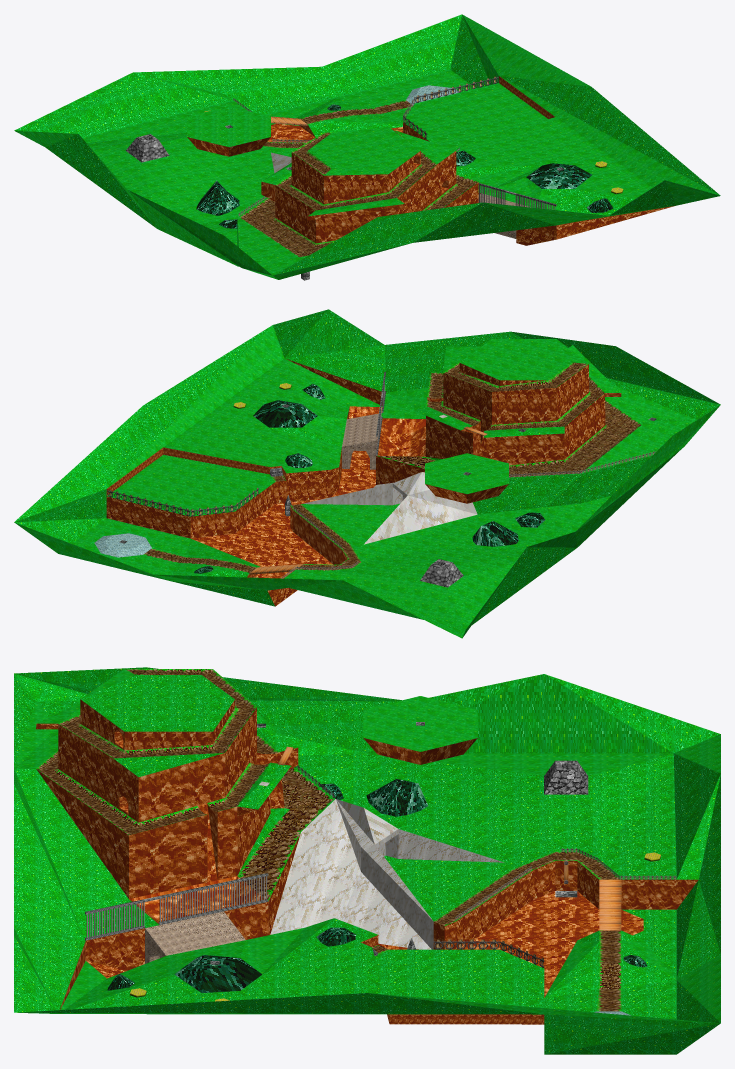
The model's file is sm64bobomb.glb.
3 renders of one model, top to bottom at view 1: azimuth 30°, elevation 25°; view 2: azimuth 150°, elevation 25°; view 3: azimuth 270°, elevation 25°, orthographic. The views are drawn at different scales.
Visible parts, largest first — view 1: Object_2, Object_13, Object_15, Object_16, Object_7, Object_18, Object_3, Object_22, Object_10, Object_21, Object_5; view 2: Object_2, Object_13, Object_15, Object_9, Object_16, Object_7, Object_3, Object_18, Object_22, Object_8, Object_5, Object_10 (+1 smaller); view 3: Object_2, Object_13, Object_9, Object_15, Object_16, Object_7, Object_3, Object_21, Object_8, Object_22, Object_6, Object_10 (+2 smaller).
Part boxes in pixels (x1,y1,x2,y2): Object_2: [14, 14, 720, 279]; Object_13: [187, 76, 675, 245]; Object_15: [262, 127, 455, 216]; Object_16: [239, 130, 478, 257]; Object_7: [196, 104, 613, 228]; Object_18: [244, 200, 328, 256]; Object_3: [263, 100, 412, 148]; Object_22: [233, 76, 498, 242]; Object_10: [125, 134, 459, 162]; Object_21: [479, 185, 555, 209]; Object_5: [406, 85, 458, 105]; Object_2: [14, 309, 720, 638]; Object_13: [106, 359, 621, 606]; Object_15: [414, 339, 620, 460]; Object_9: [302, 414, 477, 544]; Object_16: [376, 361, 641, 477]; Object_7: [194, 384, 545, 573]; Object_3: [143, 475, 361, 573]; Object_18: [509, 404, 636, 476]; Object_22: [106, 451, 656, 578]; Object_8: [342, 413, 381, 469]; Object_5: [94, 533, 151, 557]; Object_10: [270, 467, 463, 587]; Object_2: [14, 667, 720, 1054]; Object_13: [36, 699, 698, 1024]; Object_9: [259, 781, 504, 949]; Object_15: [37, 669, 297, 874]; Object_16: [36, 669, 333, 900]; Object_7: [107, 779, 647, 992]; Object_3: [372, 851, 621, 1011]; Object_21: [86, 876, 267, 937]; Object_8: [145, 911, 245, 963]; Object_22: [295, 765, 676, 967]; Object_6: [85, 722, 577, 964]; Object_10: [372, 760, 588, 955].
Size of the model in its own units: 16.39 by 4.7 by 16.38.
Materials: 21 (21 with a texture image).
